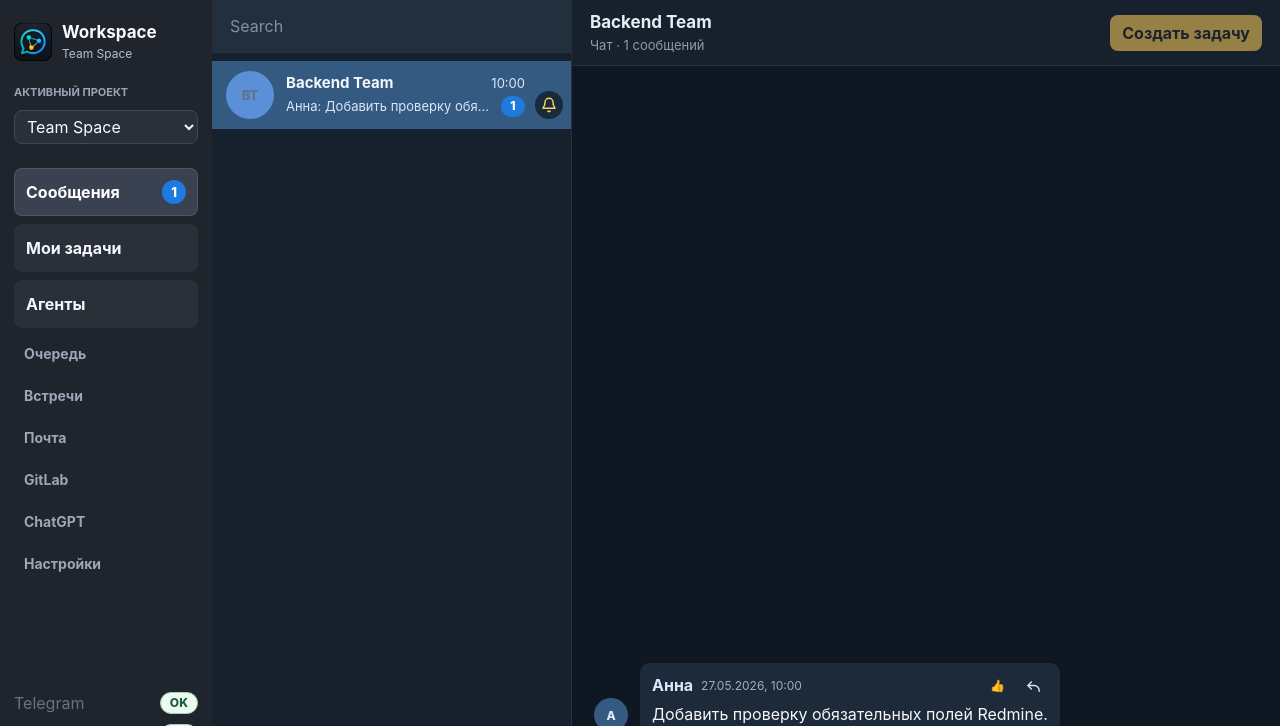
Test: App › deletes an agent work report after confirmation
The image size is (1280, 726).
Click the button "Агенты": click(106, 304) x1=14 y1=280 x2=198 y2=328
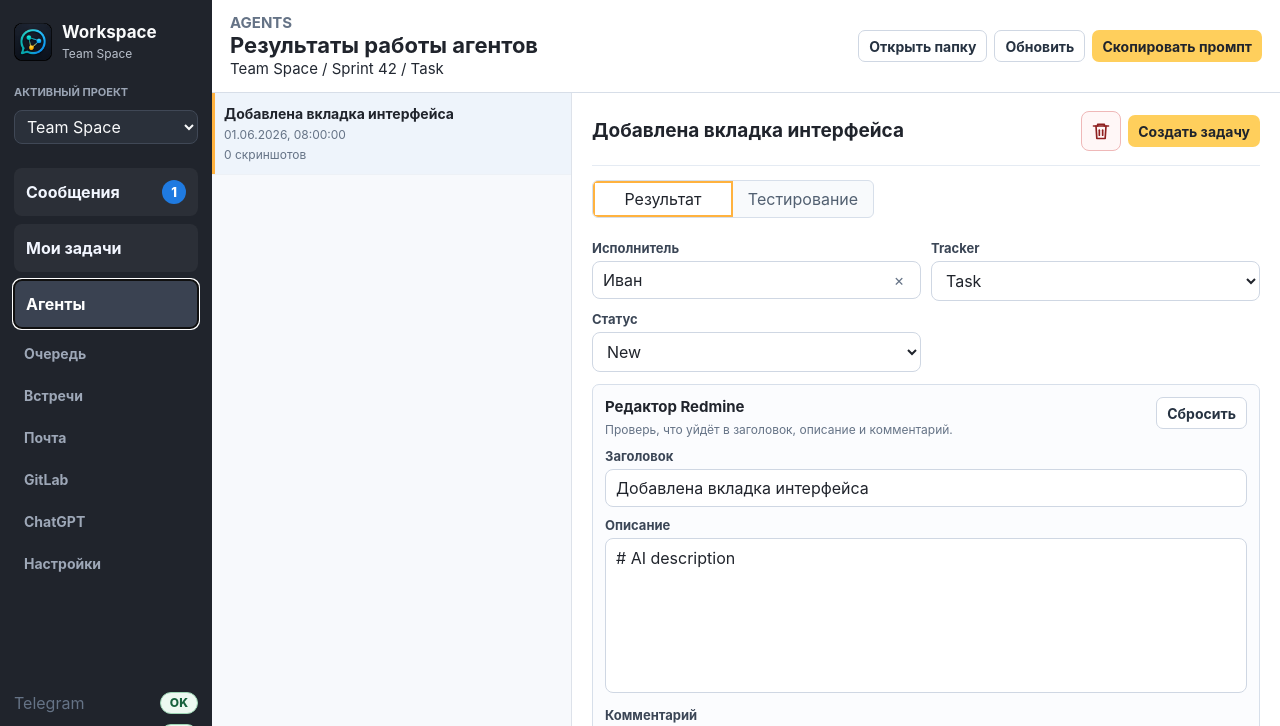
Now the heading "Добавлена вкладка интерфейса" is shown, box x1=592 y1=120 x2=904 y2=142
Click the button named "Удалить результат Добавлена вкладка интерфейса": click(1101, 131) x1=1081 y1=111 x2=1121 y2=151
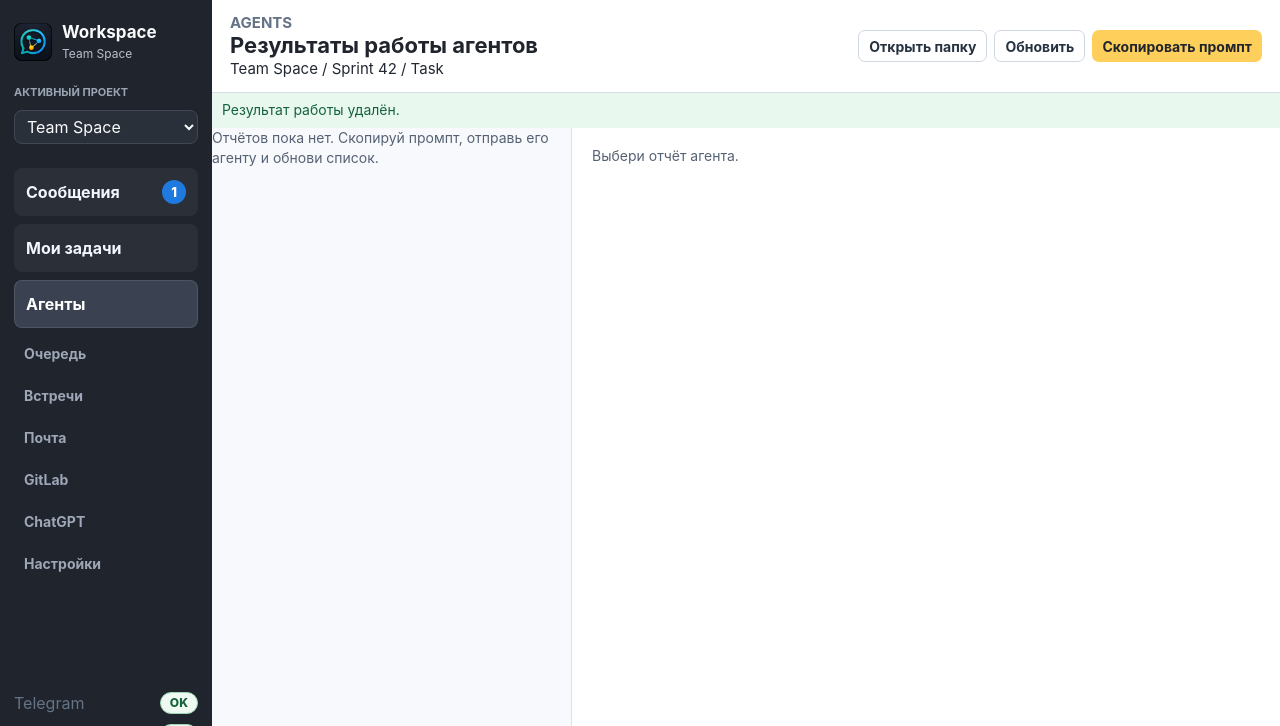
Now the text "Результат работы удалён." is shown, box x1=212 y1=93 x2=1279 y2=128
